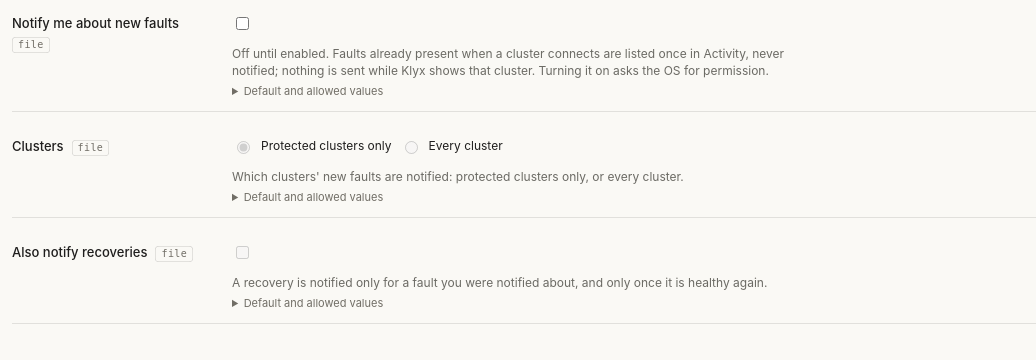
Test: NotificationSettingsPanel › a failed save reverts and says why
The width and height of the screenshot is (1036, 360).
Click the checkbox labelled "Notify me about new faults": (242, 23) [236, 16, 249, 30]
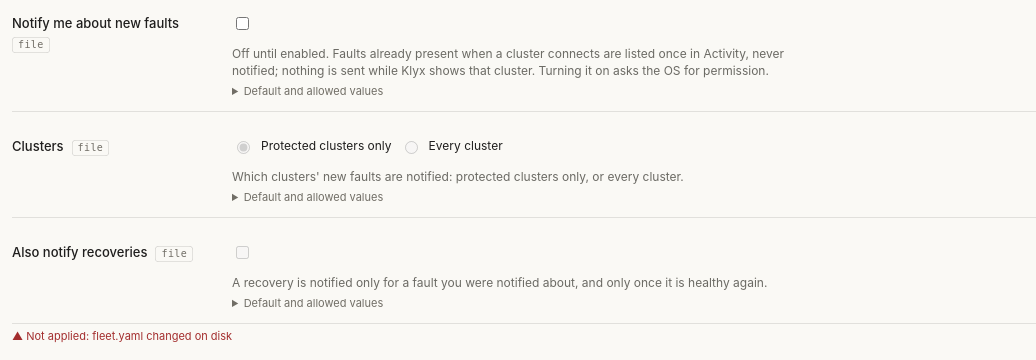
Expected: the message shows "fleet.yaml changed on disk", [26, 329, 232, 343]
